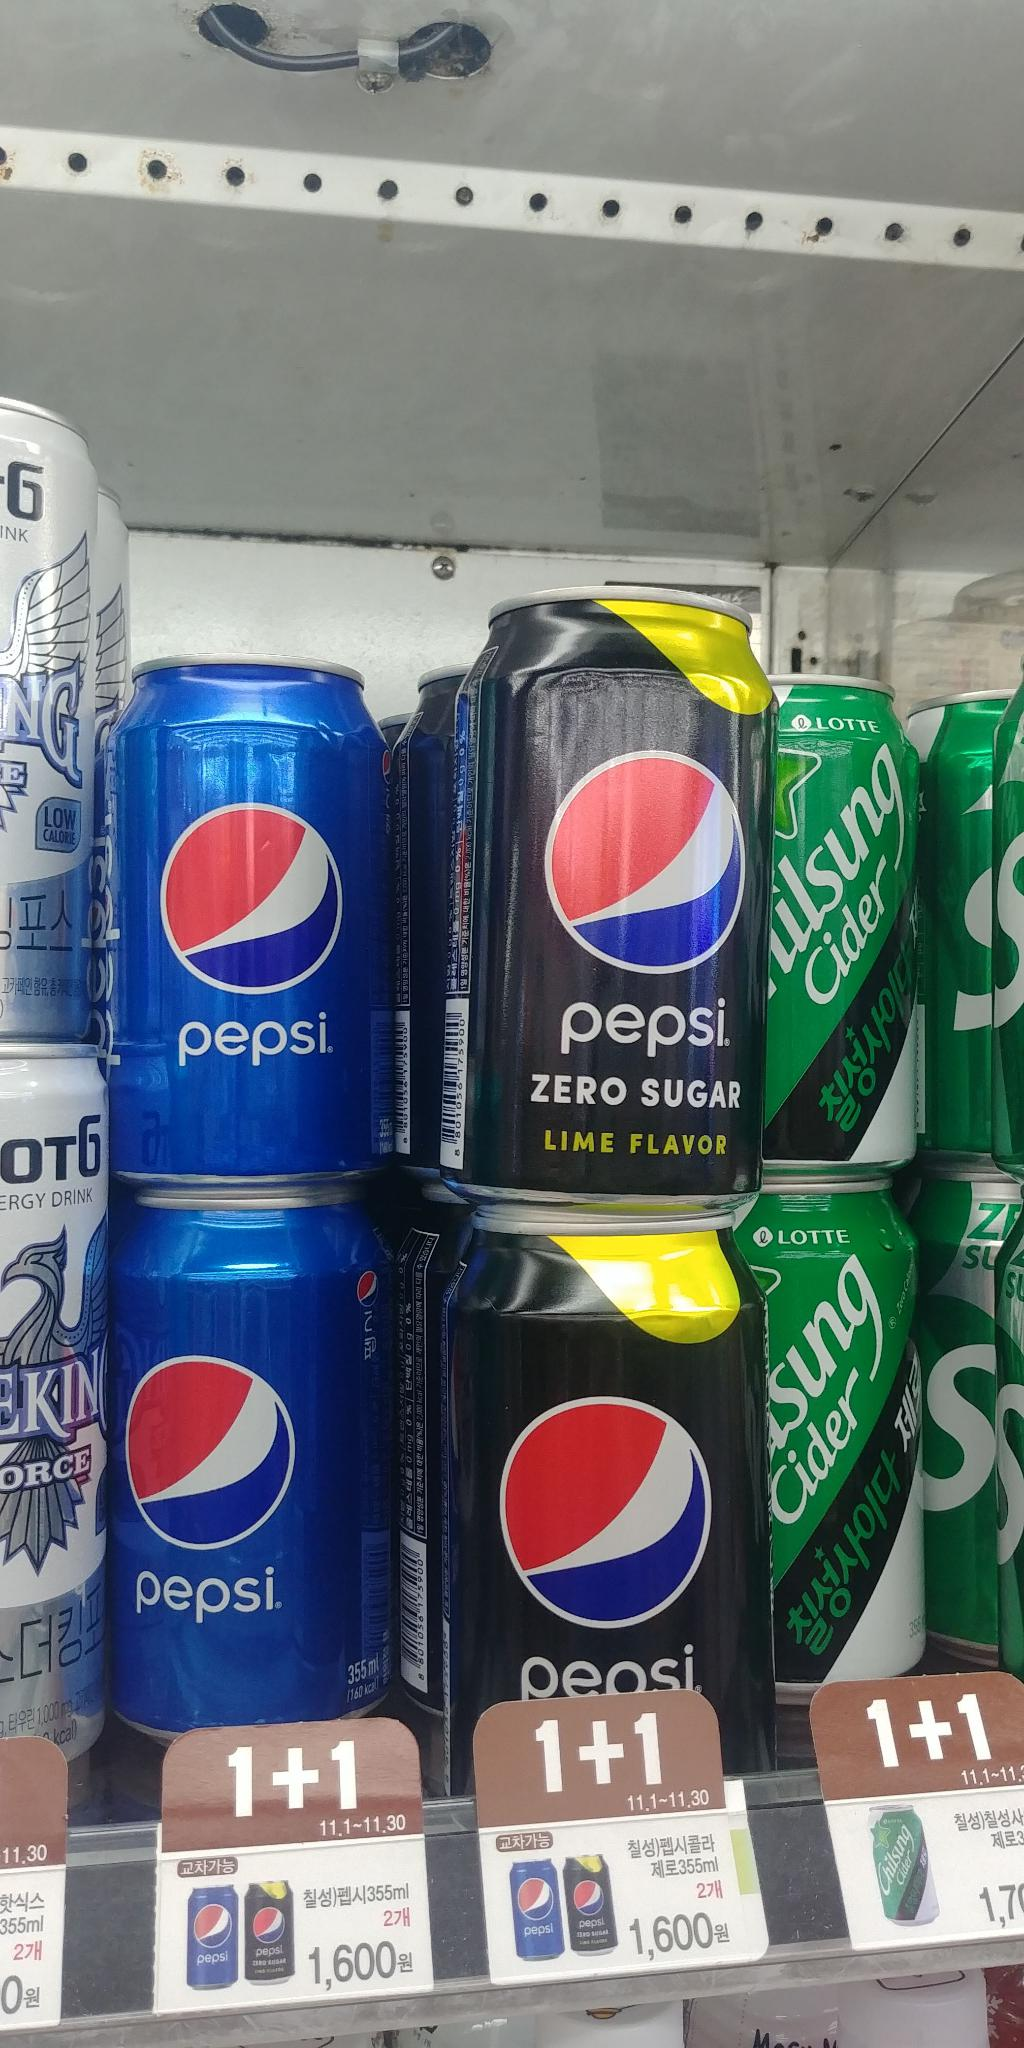pepsi_zero: (449, 581, 777, 1225), (432, 1208, 792, 1784)
